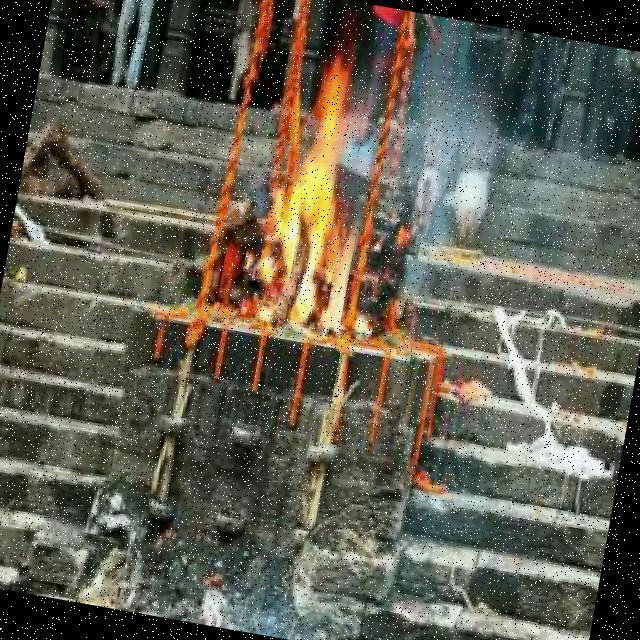Fire: (246, 51, 399, 331)
